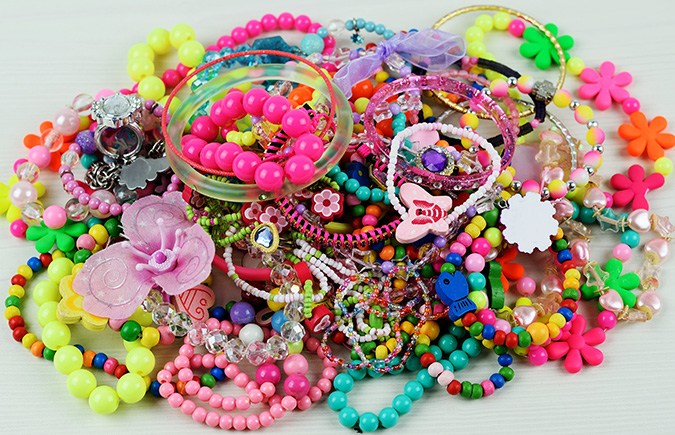toy: (154, 68, 467, 253)
